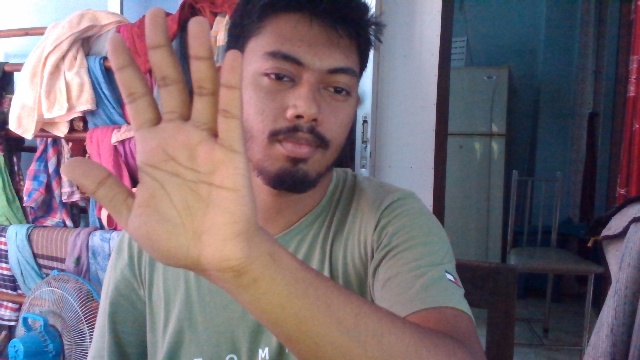hello: (64, 10, 256, 271)
